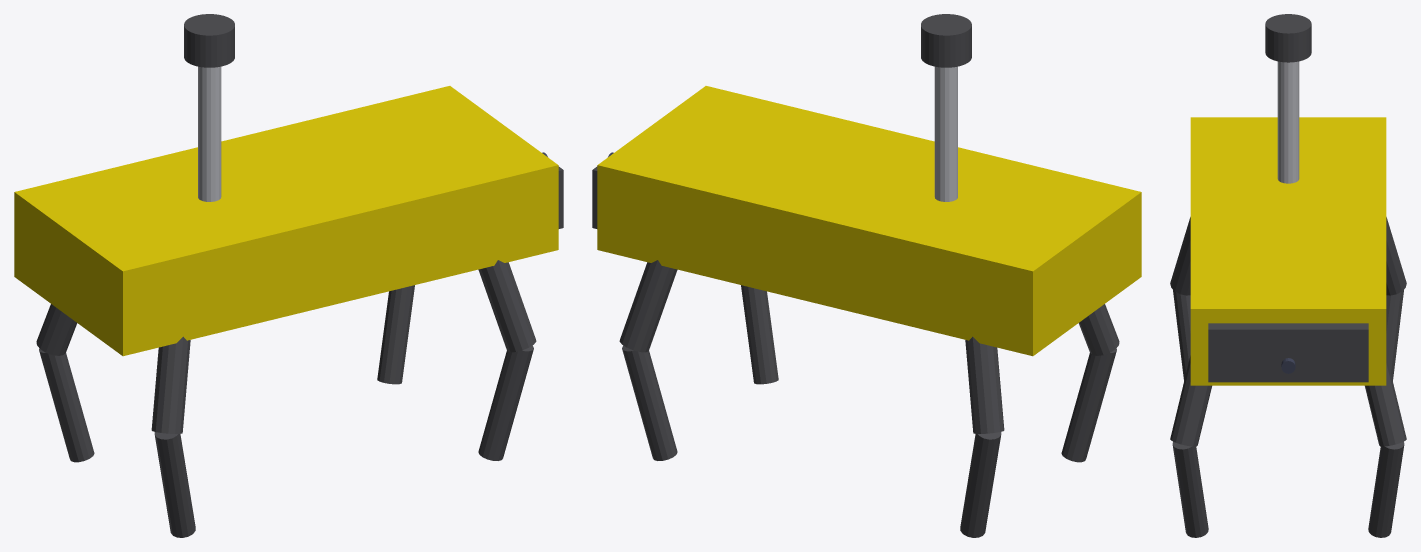
The model's file is spot.glb.
3 renders of one model, left to right at view 1: azimuth 30°, elevation 25°; view 2: azimuth 150°, elevation 25°; view 3: azimuth 270°, elevation 25°, orthographic. The views are drawn at different scales.
Visible parts, largest first — view 1: part_0, part_15, part_11, part_4, part_8, part_10, part_5, part_16, part_14, part_7; view 2: part_0, part_15, part_14, part_7, part_5, part_13, part_8, part_16, part_11, part_4; view 3: part_0, part_1, part_15, part_11, part_14, part_16, part_10, part_13, part_5, part_8, part_4, part_7.
Boxes of the visible parts, x1=… form: part_0: x1=14, y1=86, x2=558, y2=356; part_15: x1=198, y1=66, x2=221, y2=201; part_11: x1=478, y1=345, x2=533, y2=460; part_4: x1=151, y1=336, x2=190, y2=433; part_8: x1=39, y1=348, x2=94, y2=462; part_10: x1=478, y1=260, x2=536, y2=352; part_5: x1=154, y1=432, x2=195, y2=537; part_16: x1=184, y1=14, x2=234, y2=67; part_14: x1=377, y1=285, x2=414, y2=384; part_7: x1=36, y1=304, x2=77, y2=355; part_0: x1=597, y1=86, x2=1141, y2=356; part_15: x1=934, y1=66, x2=957, y2=201; part_14: x1=622, y1=345, x2=677, y2=460; part_7: x1=965, y1=336, x2=1004, y2=433; part_5: x1=1061, y1=348, x2=1116, y2=462; part_13: x1=619, y1=260, x2=677, y2=352; part_8: x1=960, y1=432, x2=1001, y2=537; part_16: x1=921, y1=14, x2=971, y2=67; part_11: x1=741, y1=285, x2=778, y2=384; part_4: x1=1078, y1=304, x2=1119, y2=355; part_0: x1=1190, y1=117, x2=1386, y2=385; part_1: x1=1208, y1=323, x2=1368, y2=382; part_15: x1=1277, y1=61, x2=1299, y2=183; part_11: x1=1172, y1=441, x2=1208, y2=537; part_14: x1=1368, y1=441, x2=1404, y2=537; part_16: x1=1265, y1=14, x2=1311, y2=62; part_10: x1=1170, y1=355, x2=1211, y2=446; part_13: x1=1365, y1=355, x2=1406, y2=446; part_5: x1=1173, y1=290, x2=1190, y2=380; part_8: x1=1386, y1=290, x2=1403, y2=380; part_4: x1=1170, y1=217, x2=1190, y2=295; part_7: x1=1386, y1=217, x2=1406, y2=295.
Size of the model in its own units: 1.12 by 1.01 by 0.5322.
